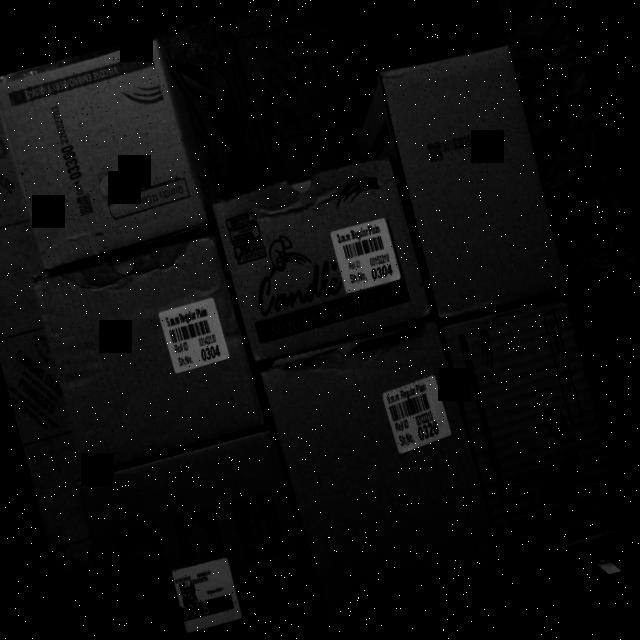box: (259, 320, 506, 621), (31, 228, 270, 476), (376, 38, 574, 320), (440, 292, 634, 570), (74, 428, 326, 640), (0, 31, 213, 271), (211, 151, 435, 364)
